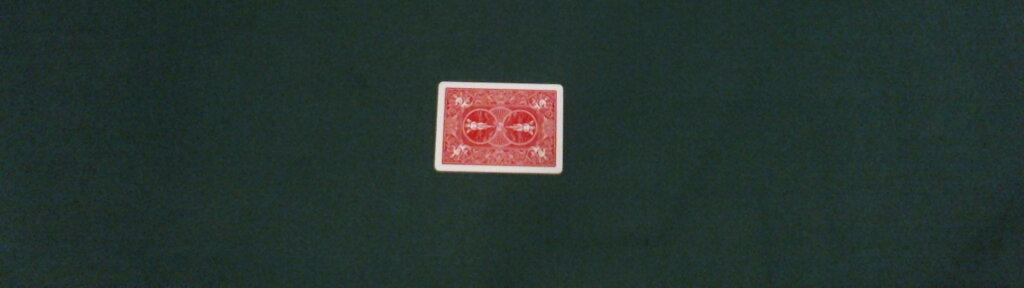back: (432, 80, 563, 174)
